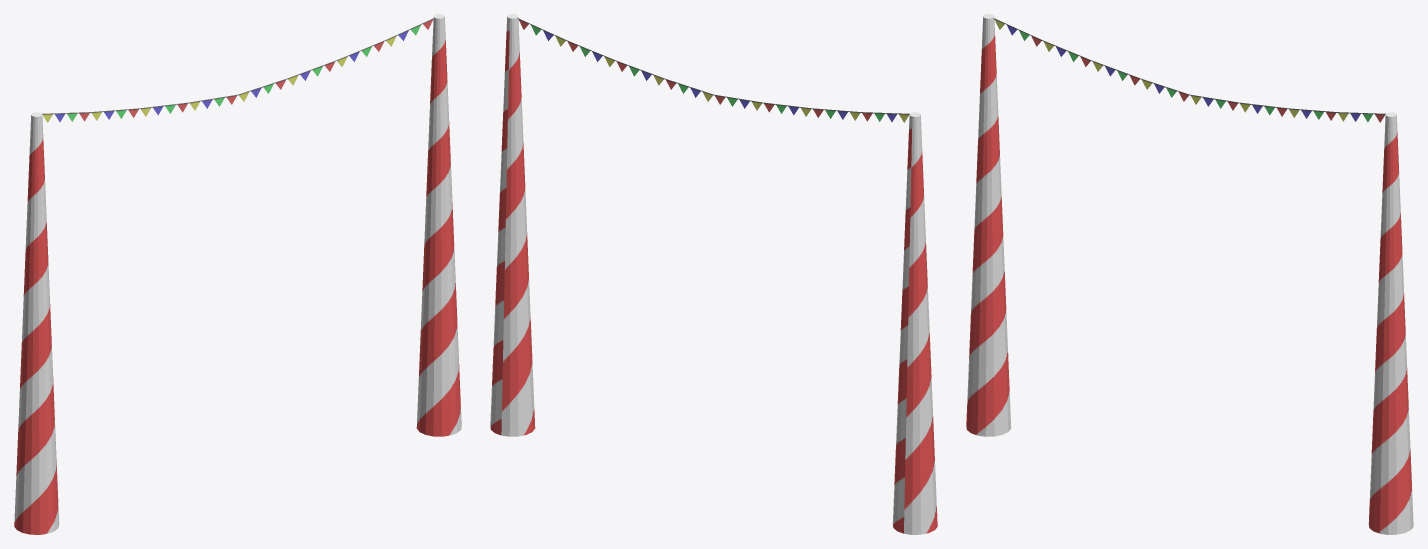
The model's file is String_Flags_1-3.fbx.
The picture shows the model from 3 angles, left to right: view 1: azimuth 30°, elevation 25°; view 2: azimuth 150°, elevation 25°; view 3: azimuth 330°, elevation 25°; orthographic projection.
Visible parts, largest first — view 1: String_Flags_1-3; view 2: String_Flags_1-3; view 3: String_Flags_1-3.
Part boxes in pixels (x1,y1,x2,y2): String_Flags_1-3: (14, 14, 461, 534); String_Flags_1-3: (490, 14, 937, 534); String_Flags_1-3: (966, 14, 1413, 534).
Size of the model in its own units: 450 by 400 by 40.
Materials: 2 (2 with a texture image).
